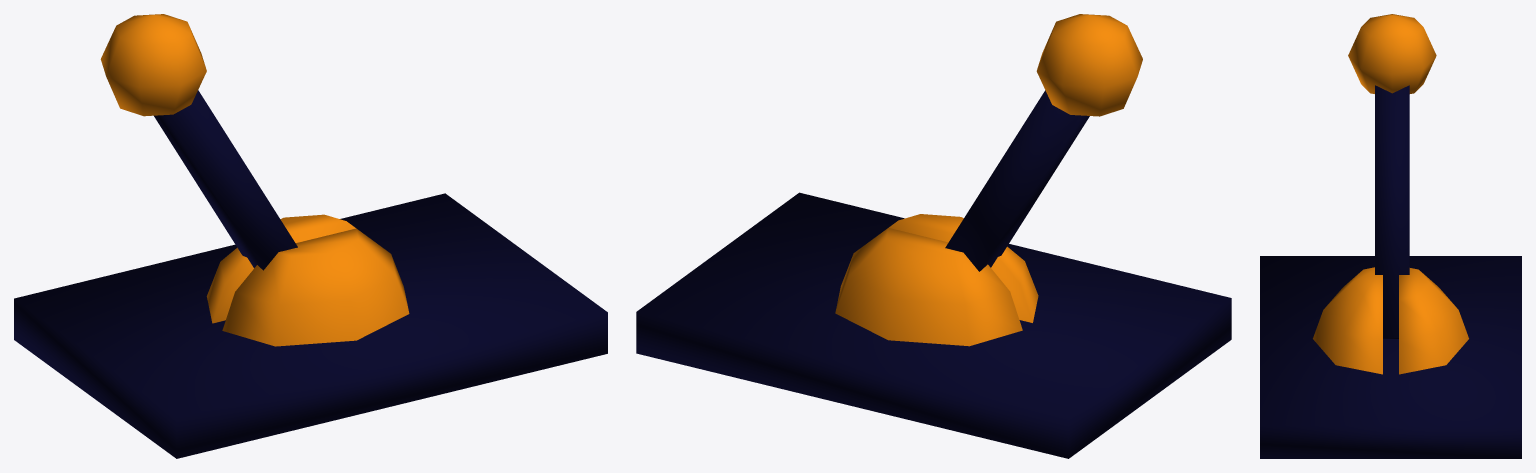
File: Lever.fbx
3 renders of one model, left to right at view 1: azimuth 30°, elevation 25°; view 2: azimuth 150°, elevation 25°; view 3: azimuth 270°, elevation 25°, orthographic. The views are drawn at different scales.
Parts seen in each view (by area): view 1: Sphere.004, Sphere.006; view 2: Sphere.004, Sphere.006; view 3: Sphere.004, Sphere.006.
Boxes of the visible parts, box(x1,y1,x2,y2) form: Sphere.004: box(14, 193, 607, 458); Sphere.006: box(100, 14, 297, 270); Sphere.004: box(636, 192, 1231, 458); Sphere.006: box(945, 14, 1142, 271); Sphere.004: box(1260, 256, 1521, 458); Sphere.006: box(1348, 14, 1436, 338).
Bounding box in the file's own units: 103 × 84.06 × 67.12.
